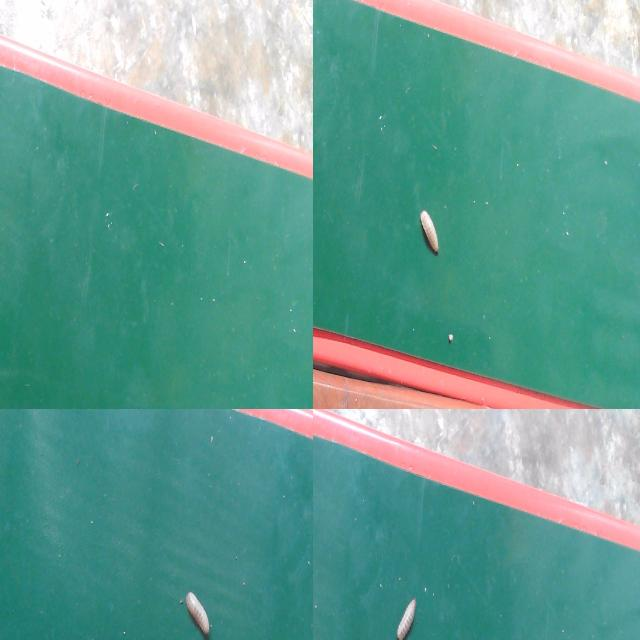Maggot: (184, 594, 214, 640), (394, 599, 420, 640), (419, 211, 441, 256)
